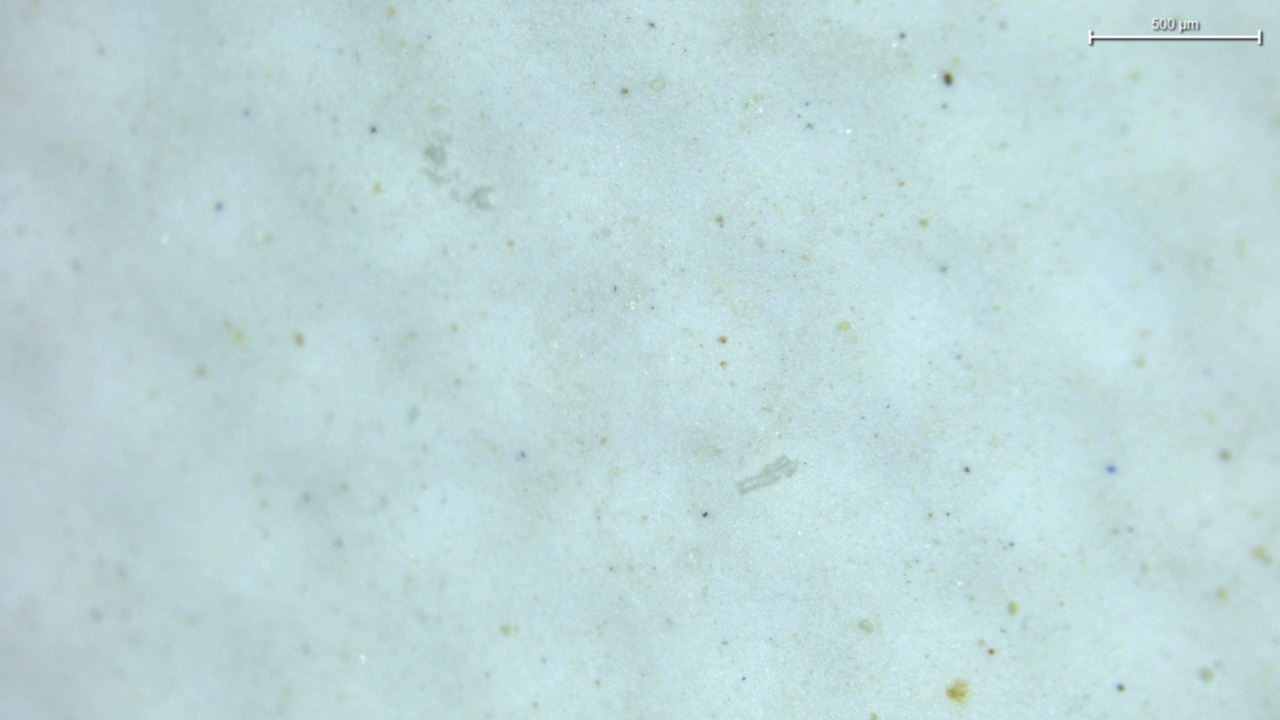microplastic_fragment: (736, 455, 798, 495)
